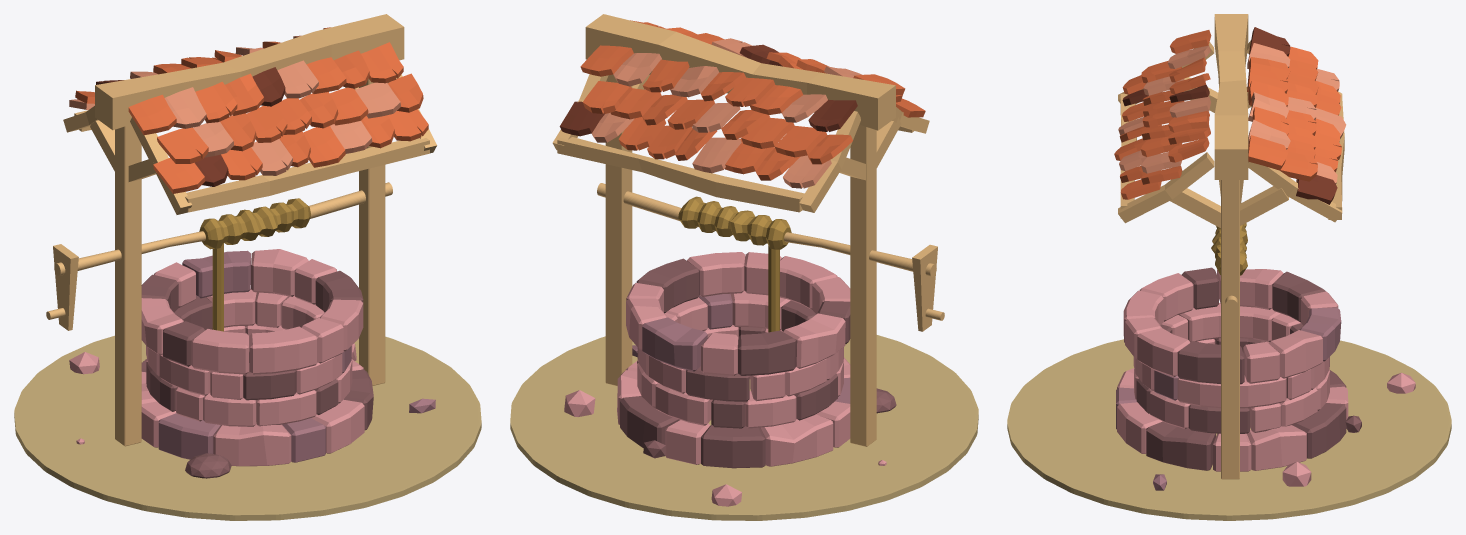
The model's file is My_Suzanne.gltf.
The picture shows the model from 3 angles, left to right: view 1: azimuth 30°, elevation 25°; view 2: azimuth 150°, elevation 25°; view 3: azimuth 270°, elevation 25°; orthographic projection. The views are drawn at different scales.
Visible parts, largest first — view 1: Cylinder.002, Cube.004, Plane.027, Cube.003, Cube, Cube.002, Cube.001, Cylinder, Plane.002, Cylinder.001; view 2: Cylinder.002, Cube.004, Plane.002, Cube.003, Cube, Cube.002, Cube.001, Cylinder, Plane.027, Cylinder.001; view 3: Cylinder.002, Cube.004, Cube.003, Plane.002, Plane.027, Cube, Cube.002, Cube.001, Cylinder.
Part boxes in pixels (x1,y1,x2,y2): Cylinder.002: (14,335,481,520); Cube.004: (46,14,436,446); Plane.027: (128,42,428,193); Cube.003: (141,249,363,374); Cube: (141,352,373,466); Cube.002: (146,289,352,400); Cube.001: (146,323,352,426); Cylinder: (199,198,310,249); Plane.002: (69,27,330,109); Cylinder.001: (212,243,223,331); Cylinder.002: (510,335,978,520); Cube.004: (552,14,944,446); Plane.002: (559,45,857,188); Cube.003: (626,252,850,375); Cube: (617,357,850,468); Cube.002: (637,290,843,401); Cube.001: (637,325,843,428); Cylinder: (678,196,791,249); Plane.027: (630,20,925,117); Cylinder.001: (768,245,779,332); Cylinder.002: (1007,339,1451,520); Cube.004: (1118,14,1344,479); Cube.003: (1123,267,1341,384); Plane.002: (1247,27,1346,204); Plane.027: (1114,30,1211,199); Cube: (1116,368,1348,471); Cube.002: (1133,303,1329,408); Cube.001: (1134,338,1329,433); Cylinder: (1211,223,1247,275).
Bounding box in the file's own units: 26.33 × 24.34 × 26.33.
